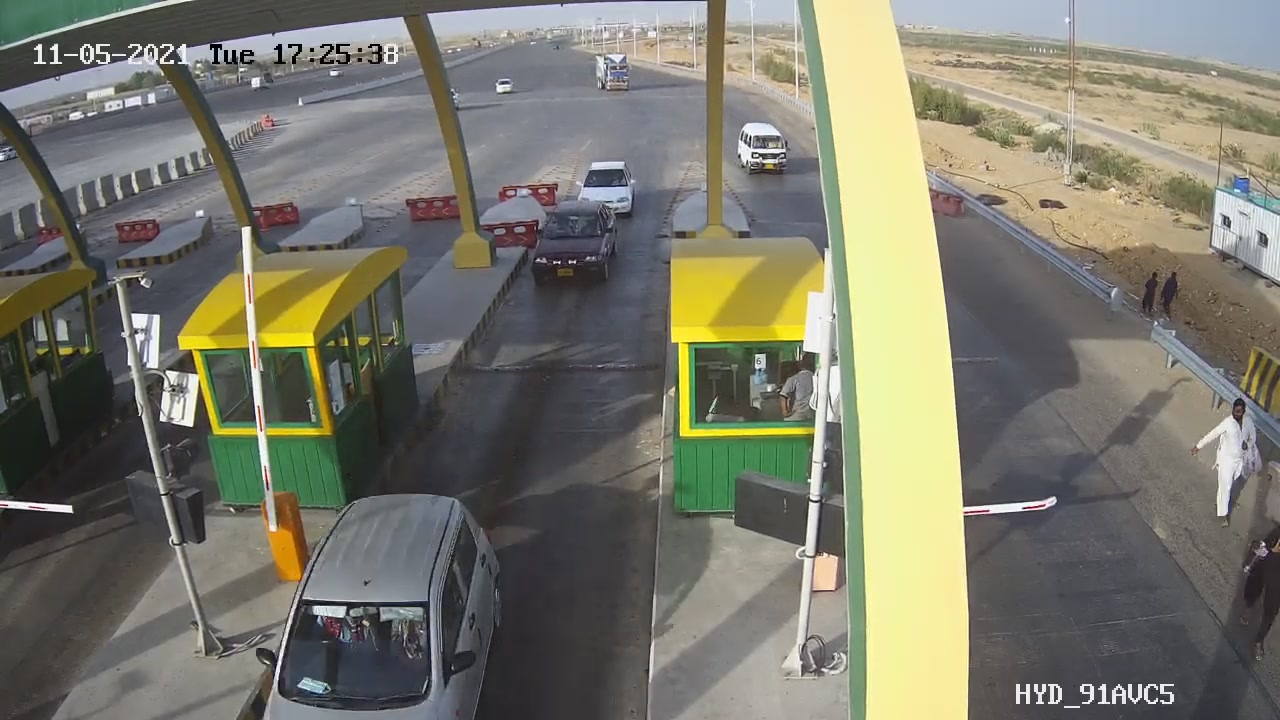F1: (514, 190, 634, 299)
